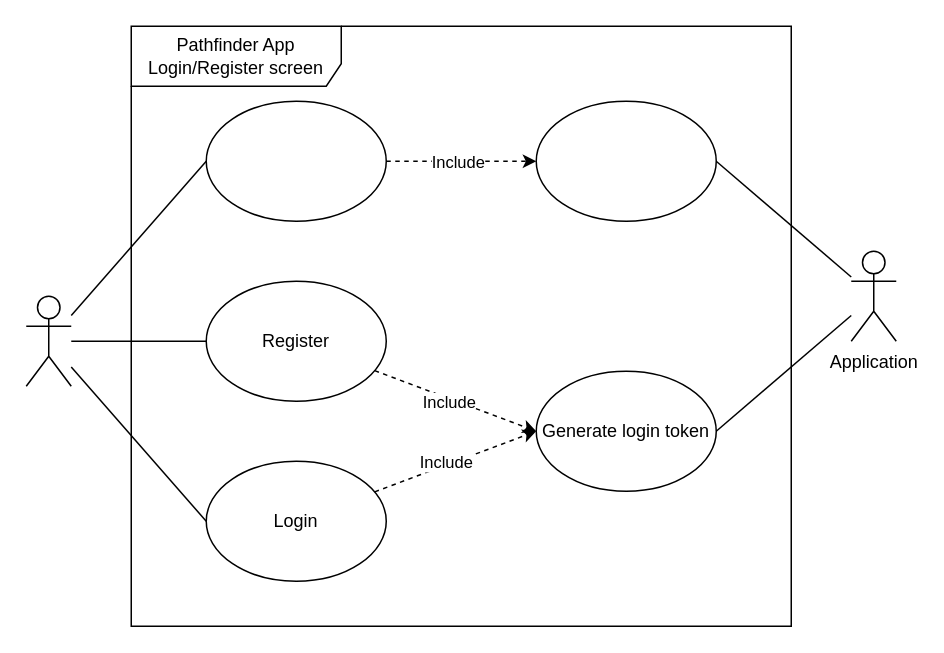
Image size: 944x653. Some labels were removed from this diagram. The centre of each missing label's shape, as x and y in pixels:
Accept localisation: [295,160]
Check localisation routine: [625,160]
User: [48,340]
